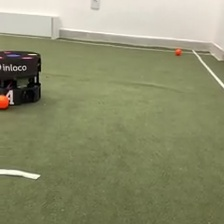ball: (1, 92, 10, 111), (174, 47, 183, 56)
goal: (1, 11, 60, 40)
robot: (1, 48, 44, 107)
